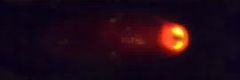keyhole: (172, 34, 185, 42)
